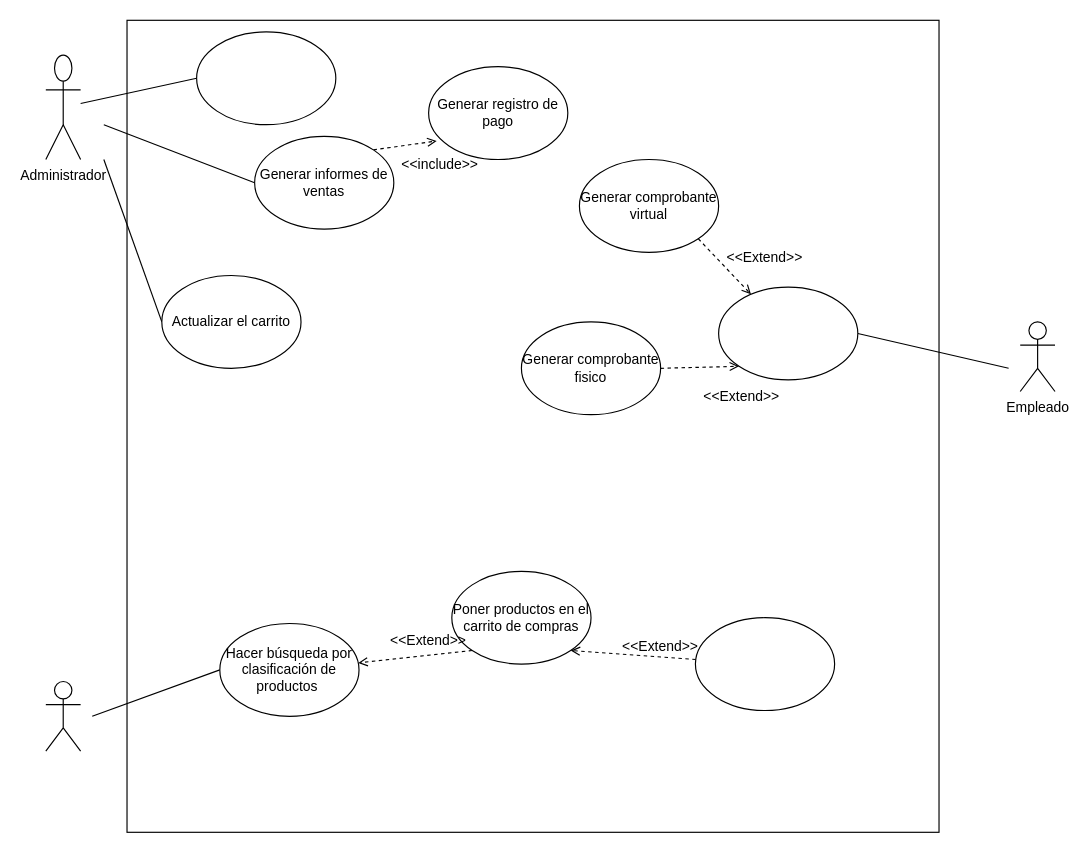
This 1088x853 diagram has some shape labels left out. Here are the shapes that lost their labels. From the top down, the centre of each, then its label:
At (x=265, y=78): "Registrar las ofertas de la semana".
At (x=787, y=333): "Generar comprobante de pago".
At (x=764, y=663): "Eliminar productos del carrito".
At (x=63, y=715): "Cliente".
